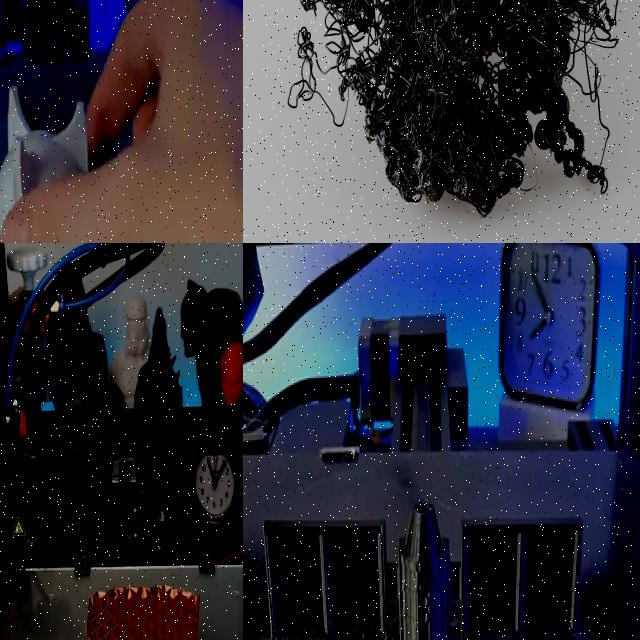spaghetti: (291, 0, 618, 217), (285, 29, 352, 133)
